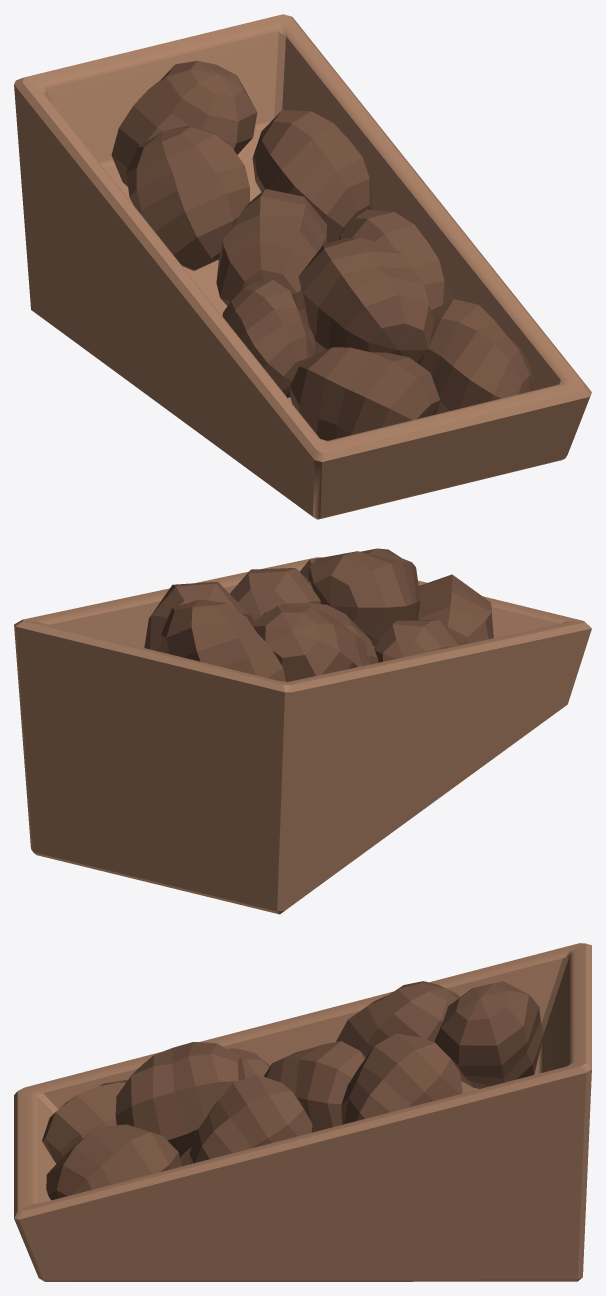
Rendered from Potato bin.fbx.
3 renders of one model, top to bottom at view 1: azimuth 30°, elevation 25°; view 2: azimuth 150°, elevation 25°; view 3: azimuth 270°, elevation 25°, orthographic. The views are drawn at different scales.
Parts seen in each view (by area): view 1: Potato_bin; view 2: Potato_bin; view 3: Potato_bin.
Boxes of the visible parts, x1,y1,x2,y2 form: Potato_bin: (14,14,591,519); Potato_bin: (14,548,591,914); Potato_bin: (14,943,591,1281).
Size of the model in its own units: 88 by 75.47 by 167.
